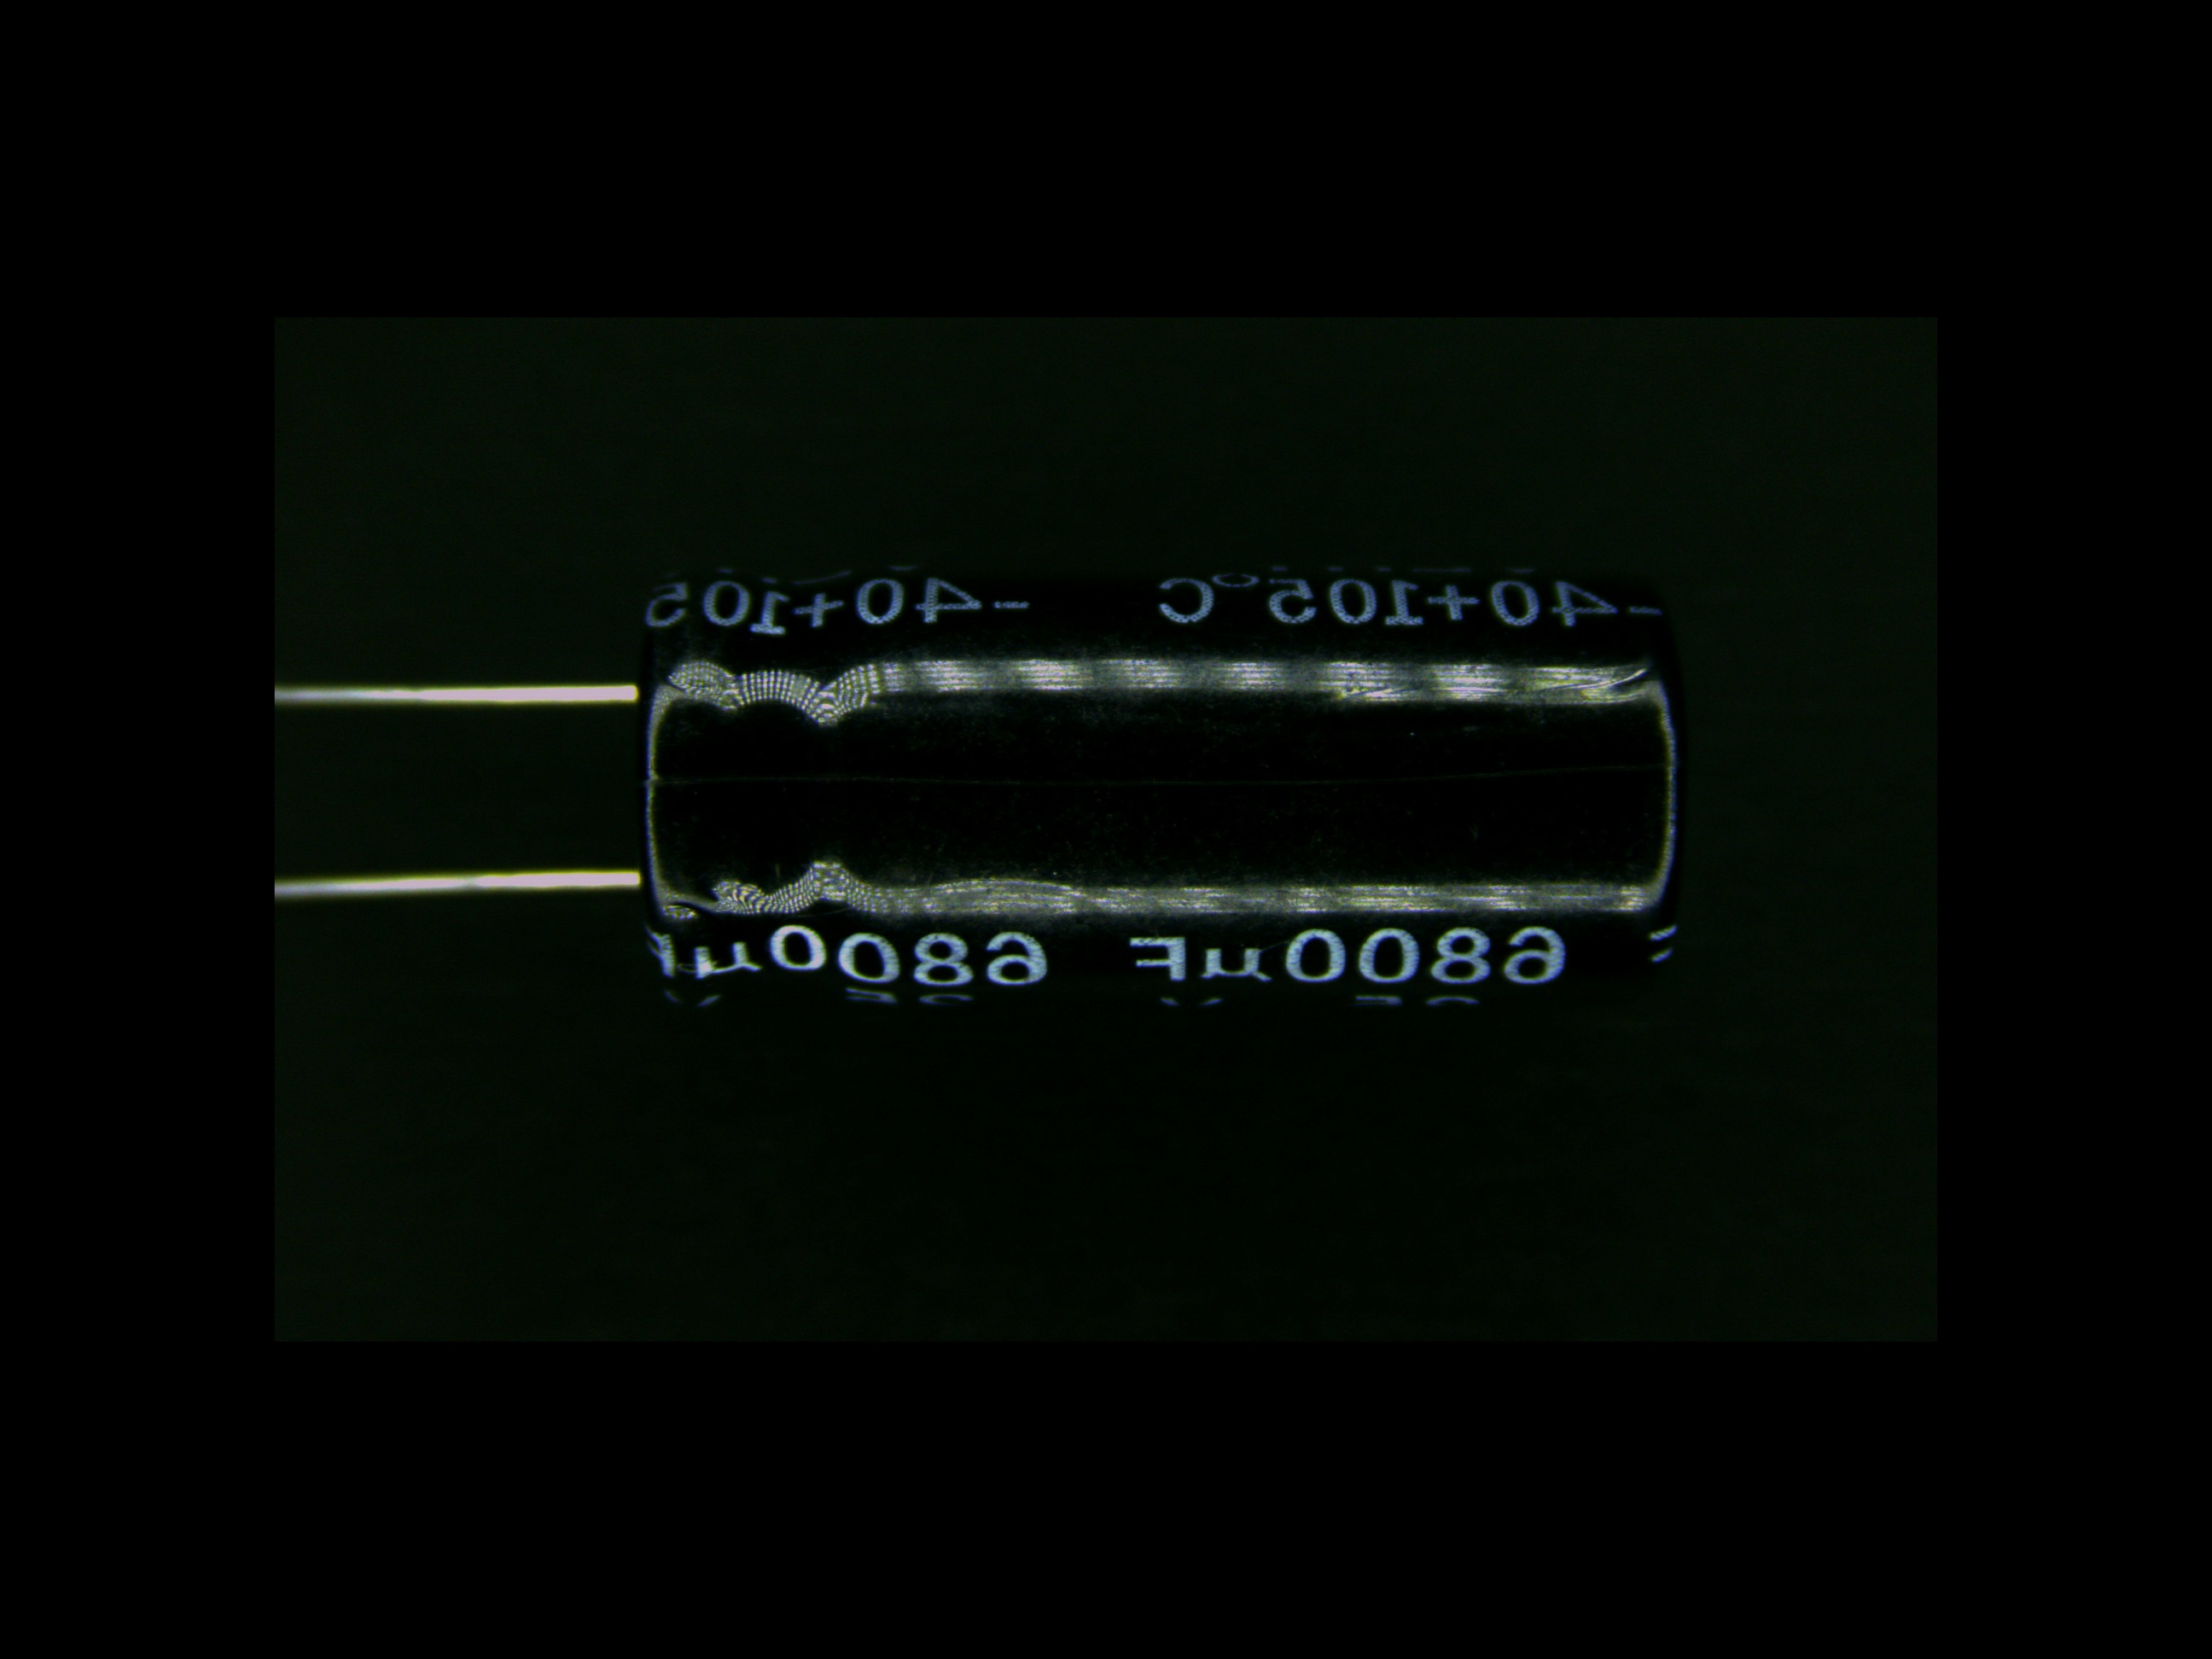c3: (402, 563, 1696, 1016)
